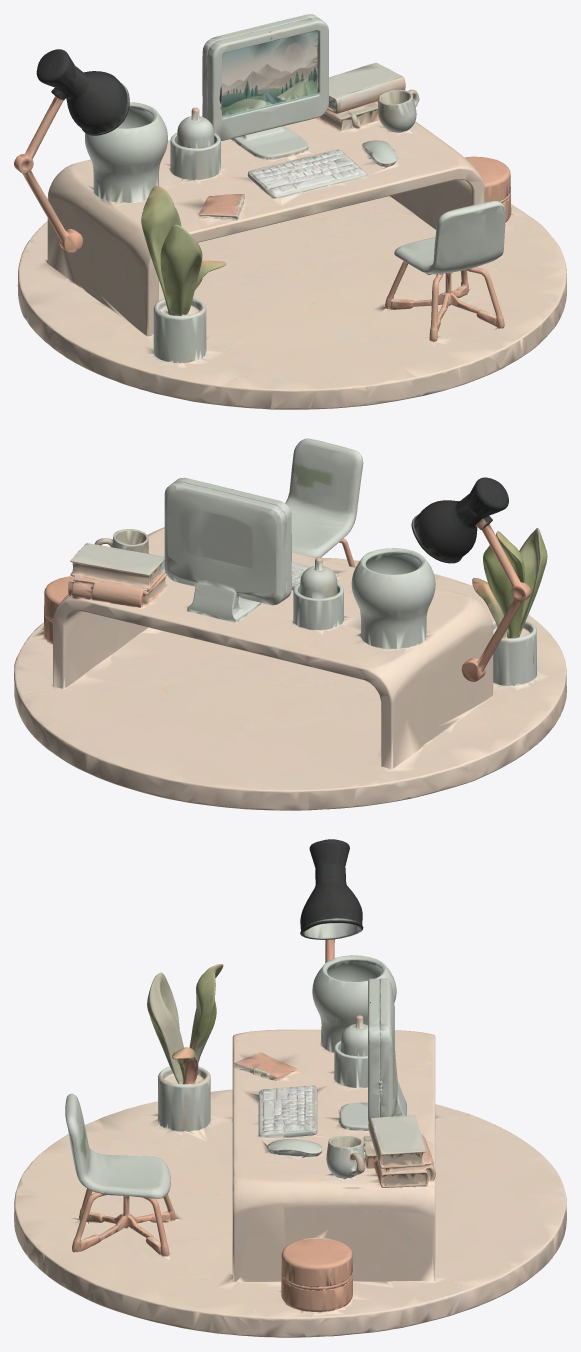
3 renders of one model, top to bottom at view 1: azimuth 30°, elevation 25°; view 2: azimuth 150°, elevation 25°; view 3: azimuth 270°, elevation 25°, orthographic.
Size of the model in its own units: 1.9 by 1.03 by 1.84.
1 material, 1 textured.
